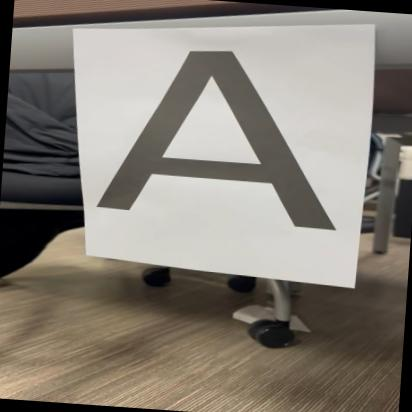seat: (90, 34, 360, 234)
